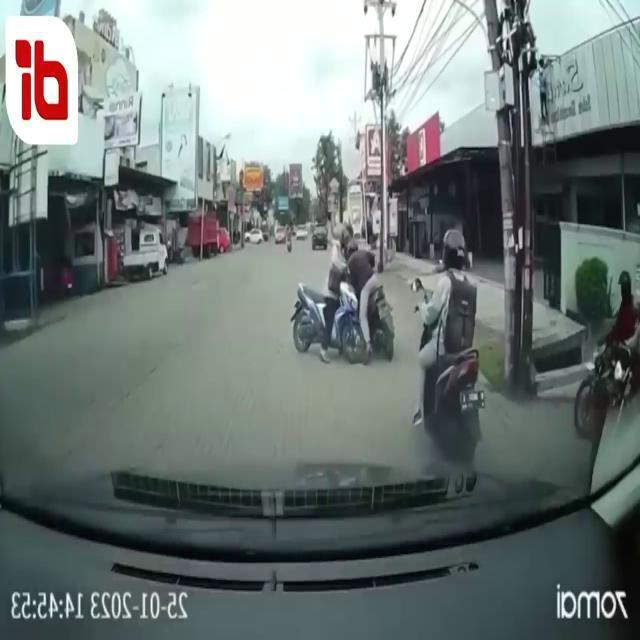accident: (288, 224, 397, 368)
non-accident: (274, 226, 292, 254)
